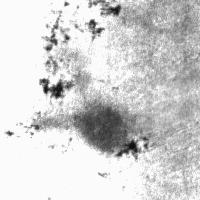patches: (134, 64, 200, 142), (70, 100, 128, 159)
